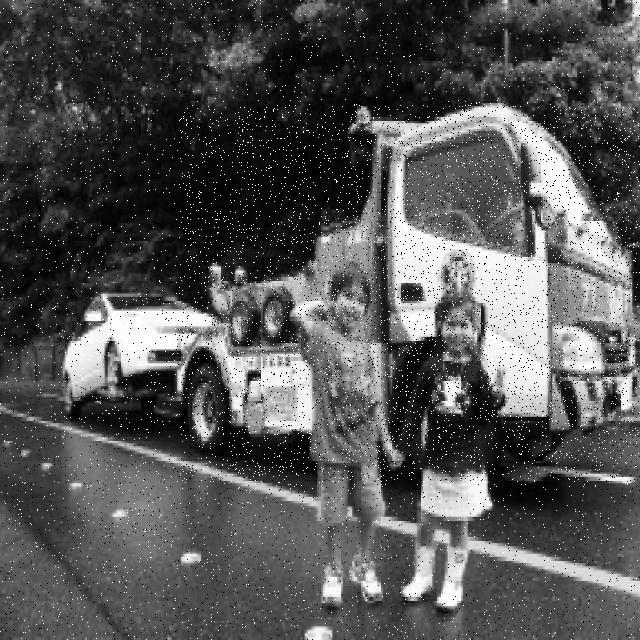Tow Truck: (179, 105, 640, 482)
